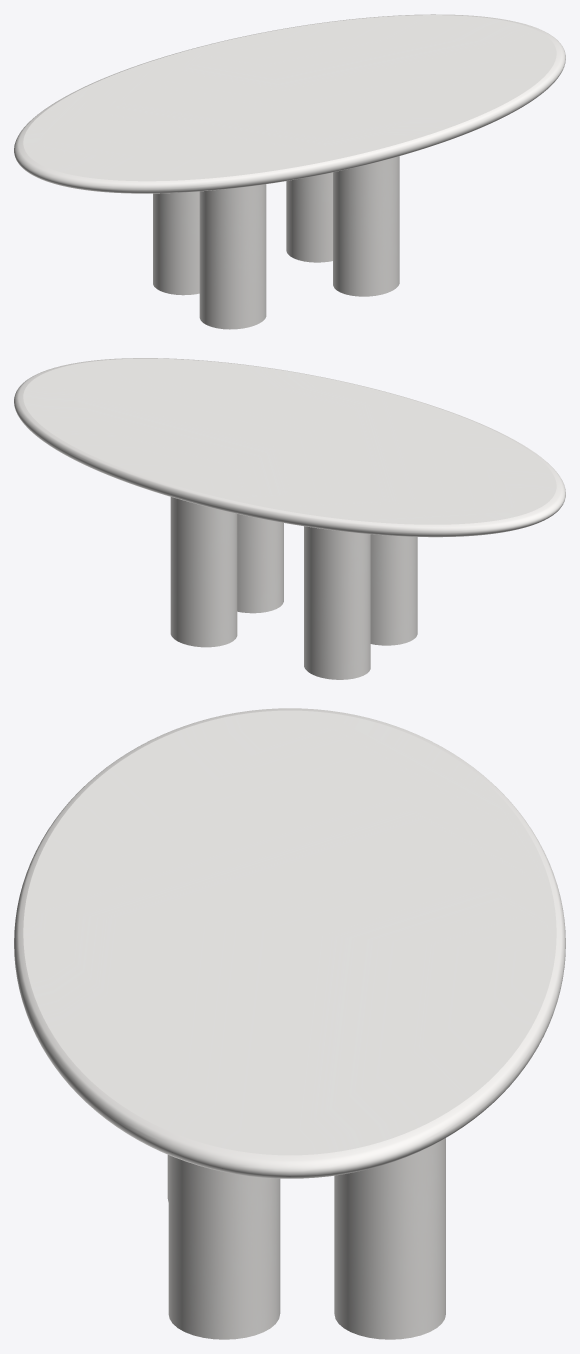
The model's file is purewhite_ellips_round_grove.glb.
3 views of the same model, one above another, from view 1: azimuth 30°, elevation 25°; view 2: azimuth 150°, elevation 25°; view 3: azimuth 270°, elevation 25° (orthographic). The views are drawn at different scales.
Parts seen in each view (by area): view 1: round_ellips, grove; view 2: round_ellips, grove; view 3: round_ellips, grove.
Boxes of the visible parts, box(x1,y1,x2,y2) form: round_ellips: box(14, 14, 565, 193); grove: box(153, 156, 399, 329); round_ellips: box(14, 358, 565, 537); grove: box(170, 497, 417, 679); round_ellips: box(14, 708, 565, 1178); grove: box(167, 1138, 445, 1339).
Size of the model in its own units: 7.5 by 2.51 by 3.8.
Materials: 1 (1 with a texture image).
